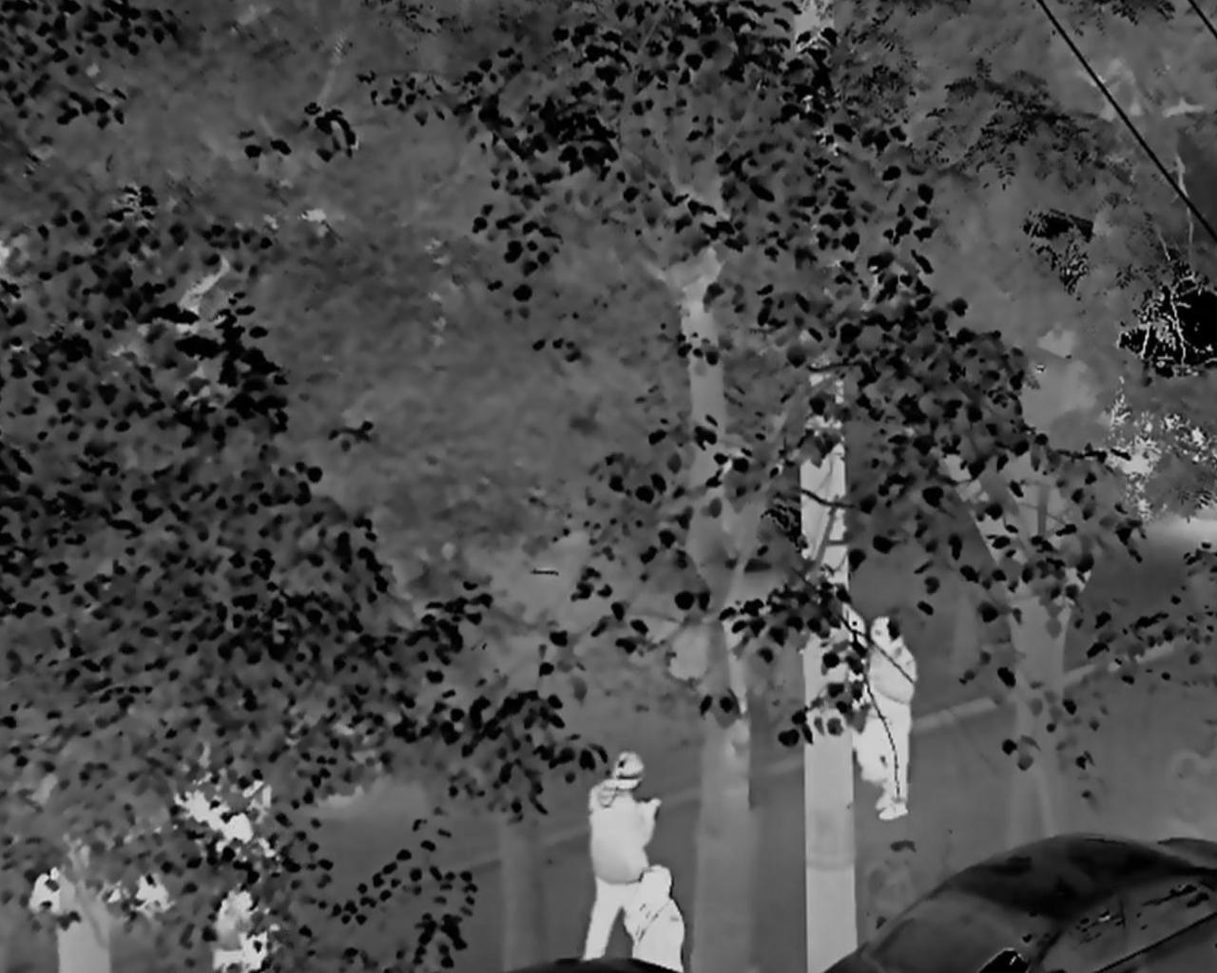person: (585, 752, 660, 961), (863, 613, 920, 817), (633, 864, 687, 973)
